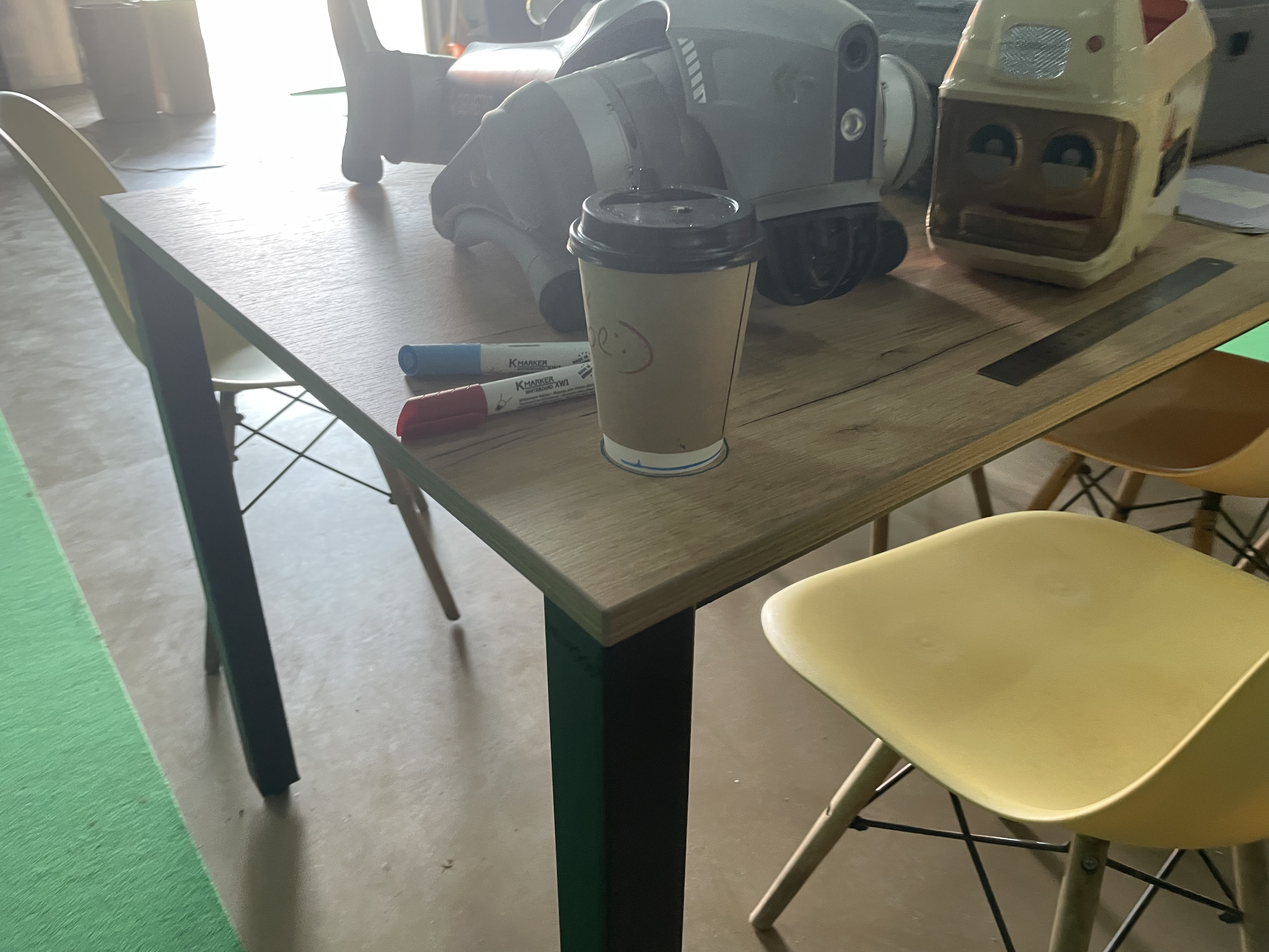cup: (566, 168, 771, 476)
